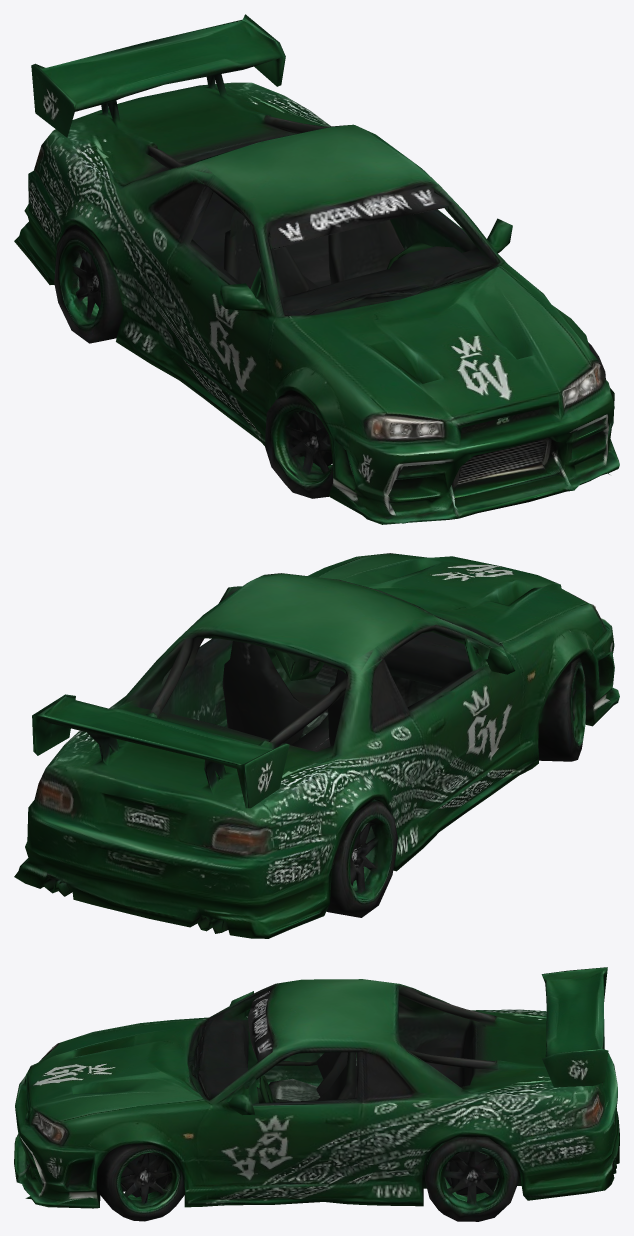
The model's file is carro dos verdes.glb.
The picture shows the model from 3 angles, top to bottom: view 1: azimuth 30°, elevation 25°; view 2: azimuth 150°, elevation 25°; view 3: azimuth 270°, elevation 25°; orthographic projection. The views are drawn at different scales.
Visible parts, largest first — view 1: tripo_node_075b84c9-56b4-4870-b32c-5507a47b3340; view 2: tripo_node_075b84c9-56b4-4870-b32c-5507a47b3340; view 3: tripo_node_075b84c9-56b4-4870-b32c-5507a47b3340.
Boxes of the visible parts, <box> form: tripo_node_075b84c9-56b4-4870-b32c-5507a47b3340: <box>14,14,619,524</box>; tripo_node_075b84c9-56b4-4870-b32c-5507a47b3340: <box>14,553,619,938</box>; tripo_node_075b84c9-56b4-4870-b32c-5507a47b3340: <box>14,967,619,1221</box>.
Size of the model in its own units: 0.4519 by 0.2992 by 1.
1 material, 1 textured.
